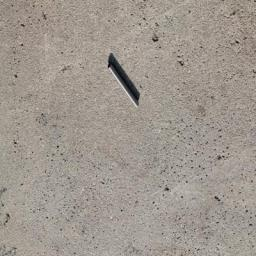FOD: (104, 51, 145, 110)
